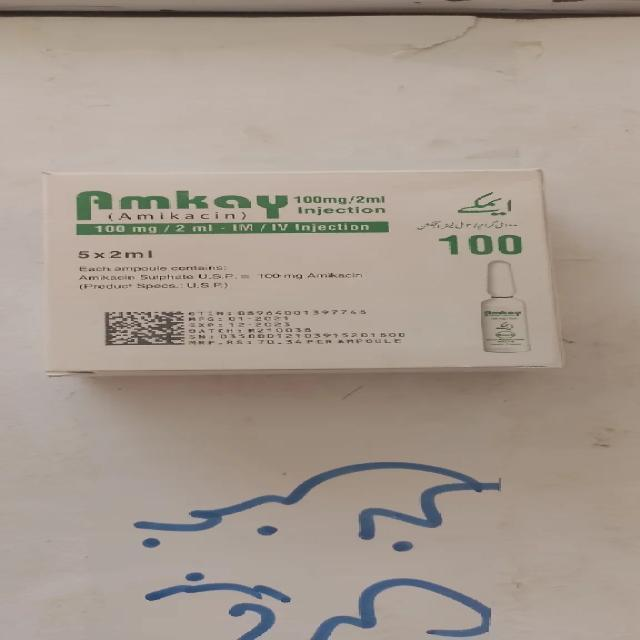drug-name: (70, 188, 290, 222)
